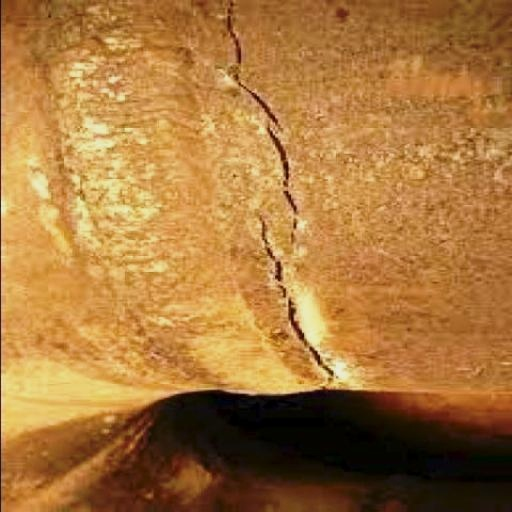crack: (210, 0, 344, 384)
